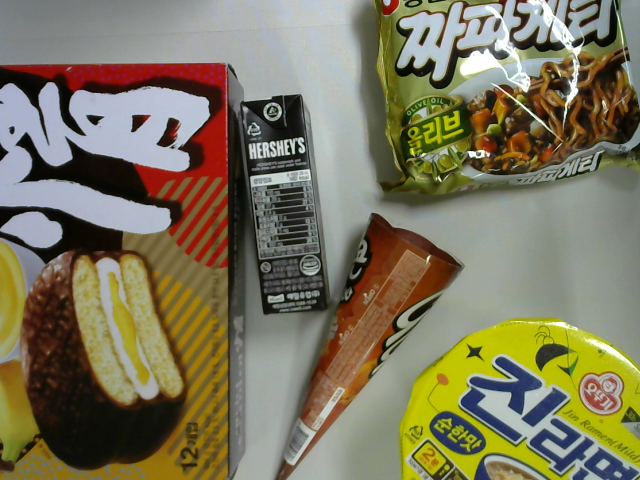Choco_Pie_Banana: (1, 63, 246, 480)
GooGoo_Cone_CVS: (270, 213, 468, 480)
Hush_Choco_Drink: (241, 93, 333, 316)
Jinlamyeon_Mild_Taste_Large_Cup: (397, 316, 640, 480)
Olive_Chapaghetti: (370, 1, 640, 200)
